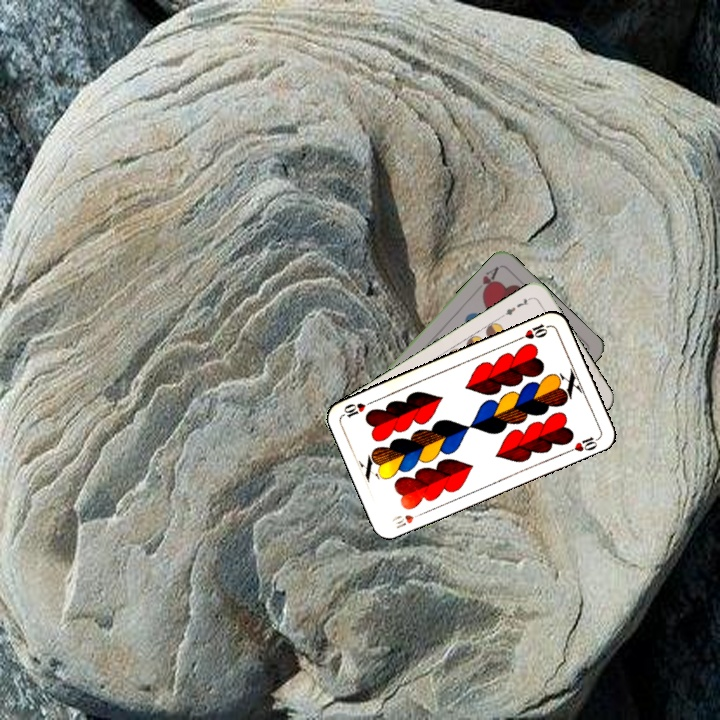E7: (498, 293, 535, 320)
H10: (514, 319, 552, 343), (388, 508, 427, 531)
HA: (477, 262, 502, 298)
